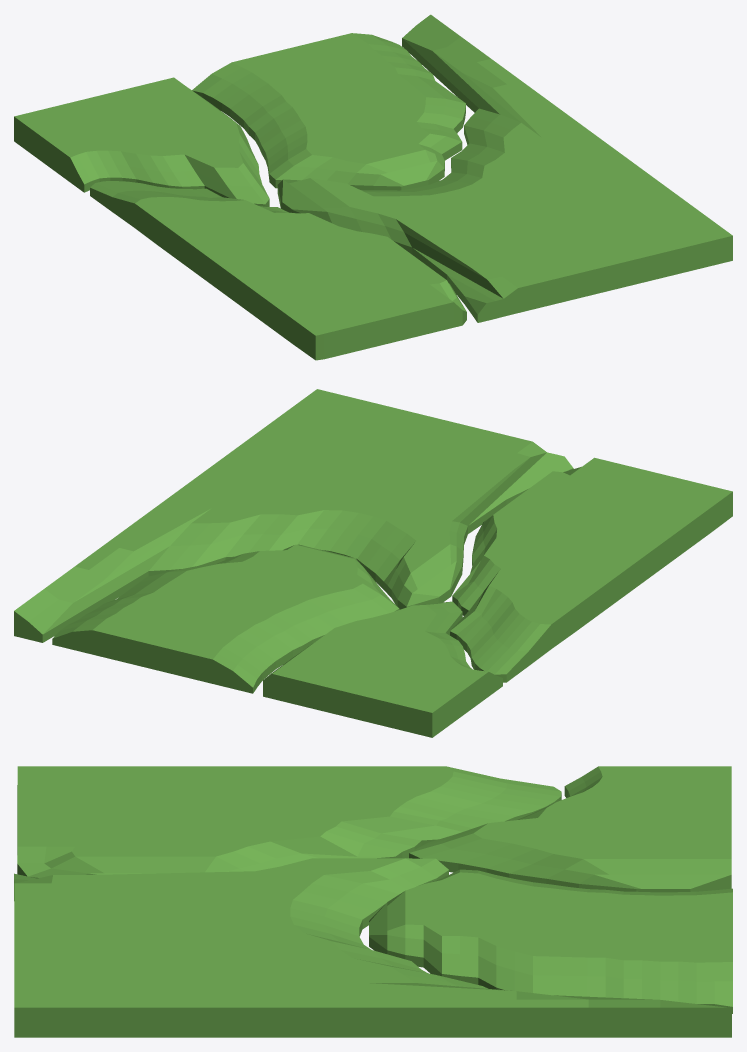
The model's file is level_area.fbx.
3 renders of one model, top to bottom at view 1: azimuth 30°, elevation 25°; view 2: azimuth 150°, elevation 25°; view 3: azimuth 270°, elevation 25°, orthographic. The views are drawn at different scales.
Visible parts, largest first — view 1: Cube.002, Cube.001, Cube.003, Cube; view 2: Cube.002, Cube.001, Cube.003, Cube; view 3: Cube.002, Cube.001, Cube.003, Cube.
Part boxes in pixels (x1=…): Cube.002: x1=277, y1=14, x2=732, y2=322; Cube.001: x1=90, y1=181, x2=466, y2=360; Cube.003: x1=192, y1=33, x2=465, y2=190; Cube: x1=14, y1=77, x2=269, y2=206; Cube.002: x1=14, y1=389, x2=573, y2=642; Cube.001: x1=450, y1=457, x2=732, y2=682; Cube.003: x1=52, y1=544, x2=399, y2=693; Cube: x1=263, y1=601, x2=502, y2=737; Cube.002: x1=14, y1=858, x2=731, y2=1037; Cube.001: x1=17, y1=766, x2=561, y2=878; Cube.003: x1=369, y1=869, x2=732, y2=1013; Cube: x1=409, y1=766, x2=731, y2=892.
Bounding box in the file's own units: 261 × 15.16 × 328.
